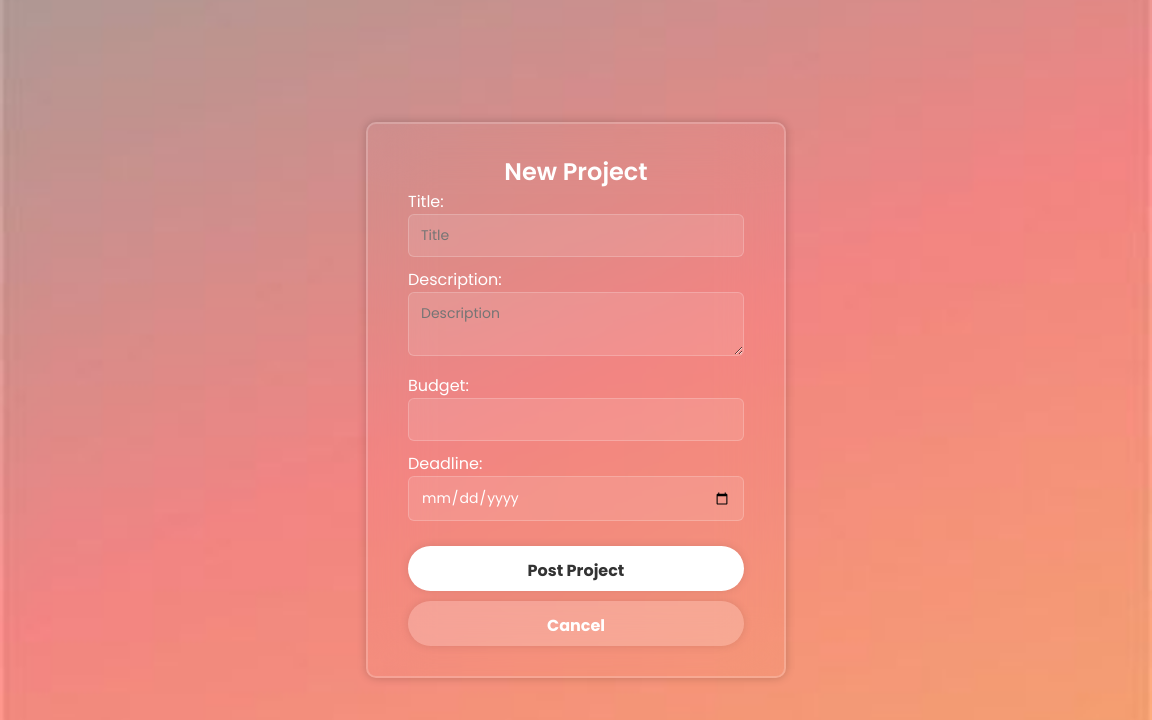
ProjectForm › should clear error message when form is resubmitted
This screenshot has width=1152, height=720.
Note: Fill and submit form
Step 1. Type "Test Project" into the field labelled "Title:" → (576, 236), box top-left (408, 214), bottom-right (744, 257)
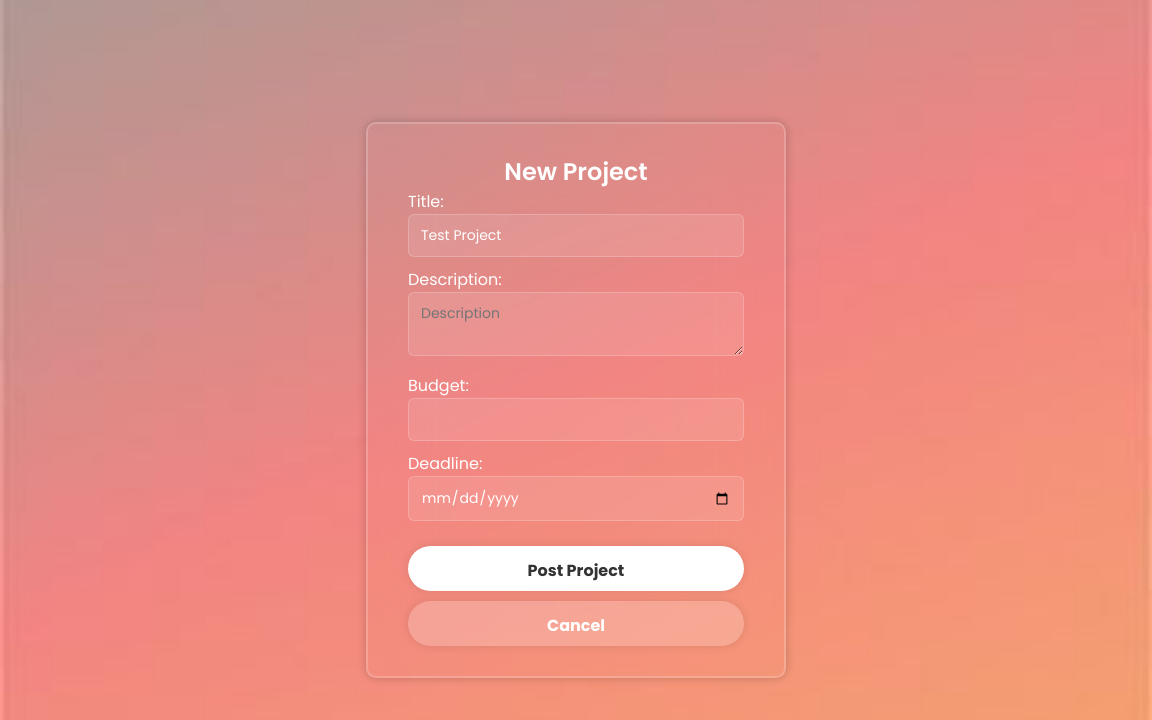
Step 2. Type "Test Description" into the text box labelled "Description:" → (576, 324), box top-left (408, 292), bottom-right (744, 356)
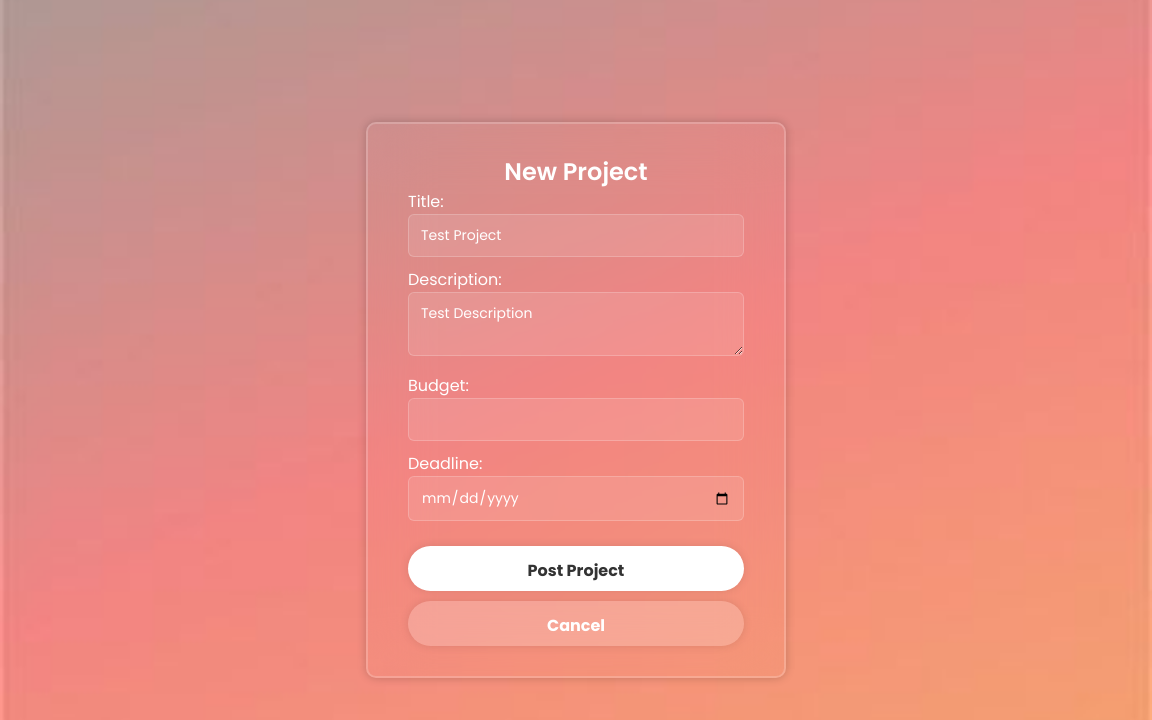
Step 3. Type "1000" into the number field labelled "Budget:" → (576, 420), box top-left (408, 398), bottom-right (744, 441)
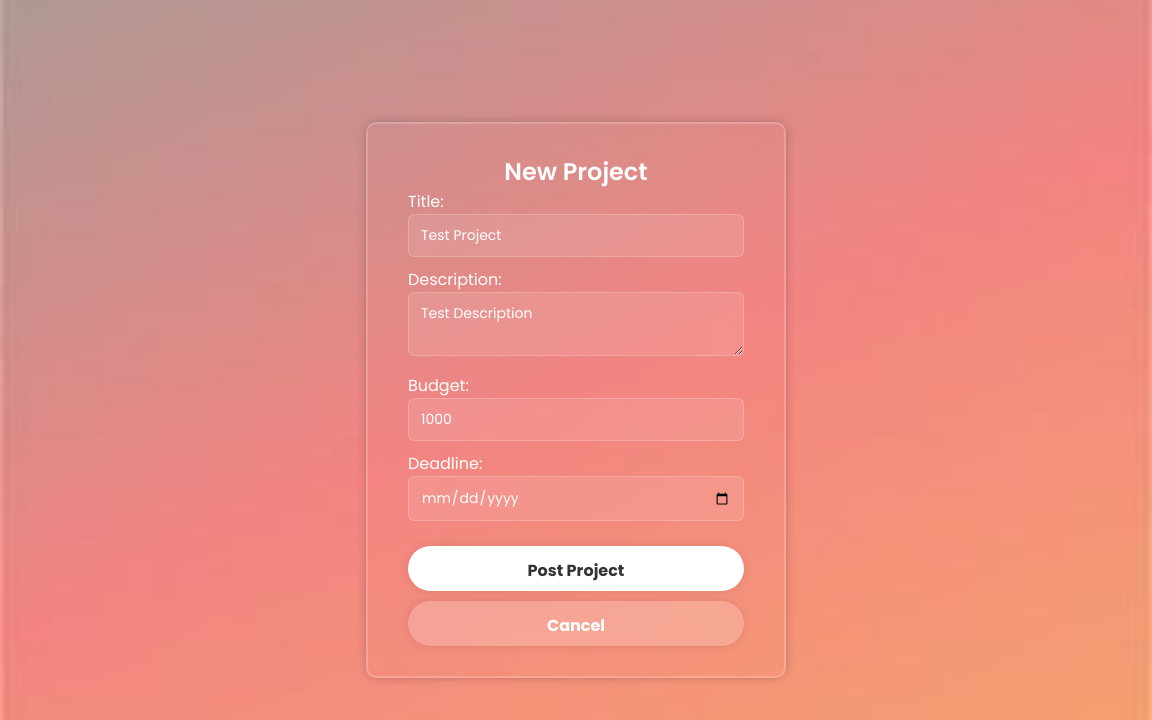
Step 4. Type "2024-12-31" into the date field labelled "Deadline:" → (576, 498), box top-left (408, 476), bottom-right (744, 521)
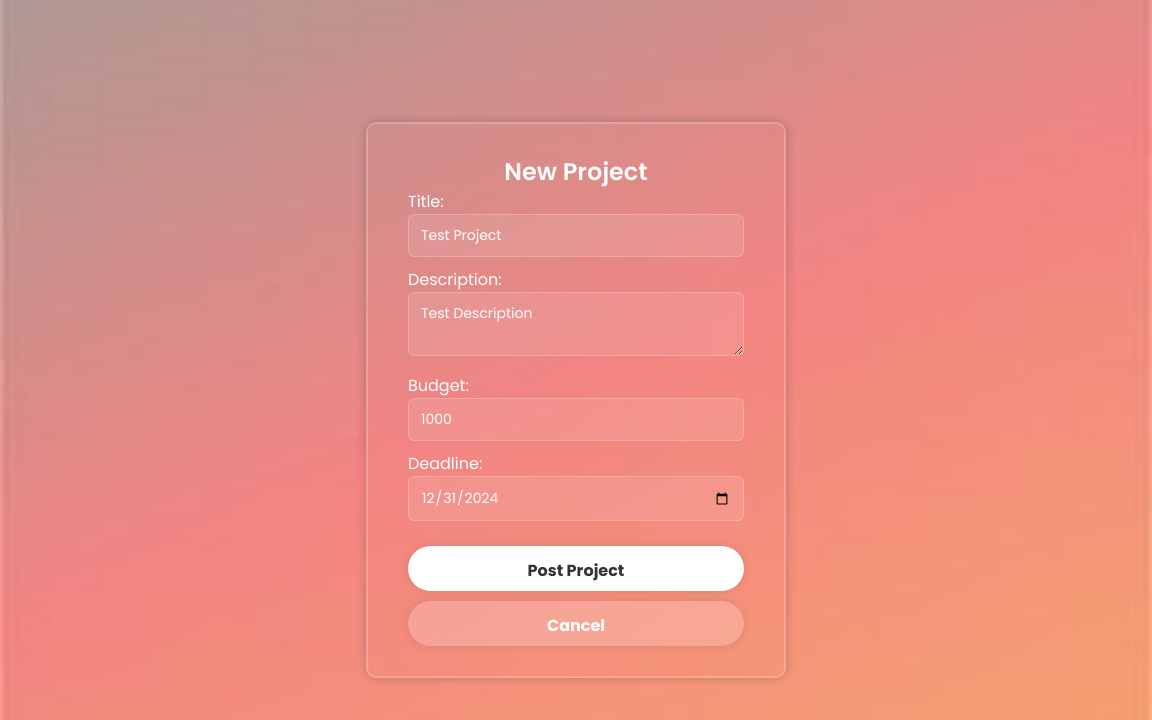
Step 5. Click the button "Post Project" → (576, 568), box top-left (408, 546), bottom-right (744, 591)
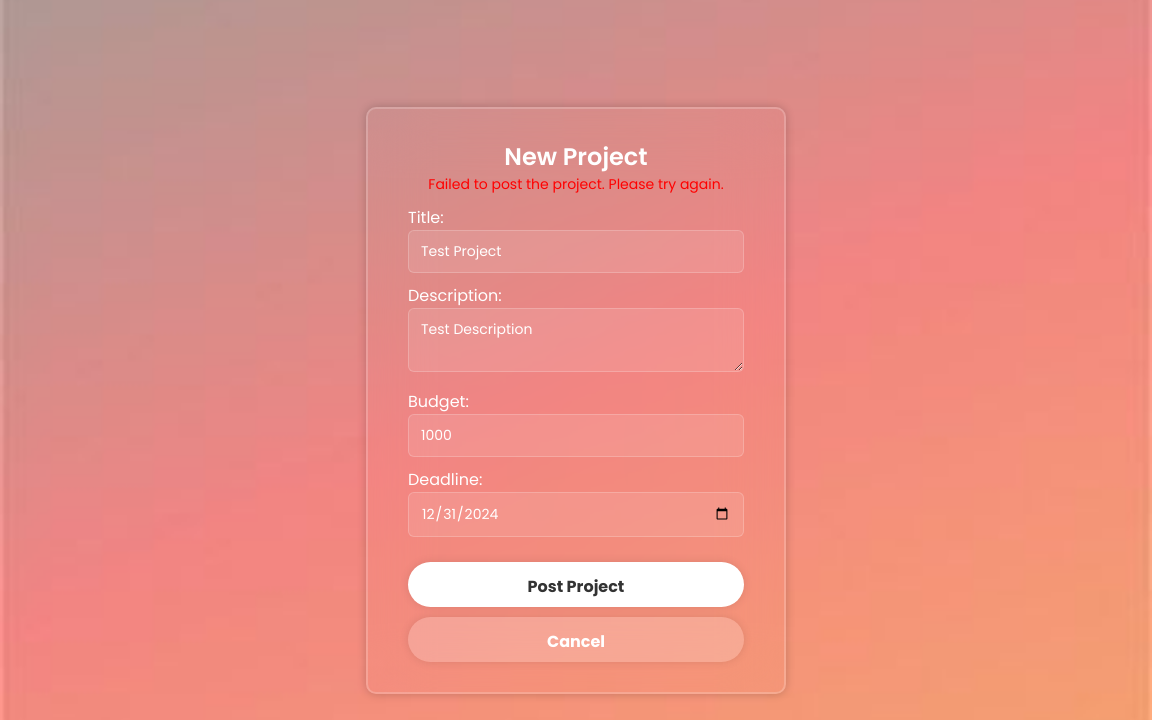
Check: the text "Failed to post the project. Please try again." is shown, box top-left (408, 174), bottom-right (744, 194)
Step 6. Click the button "Post Project" → (576, 584), box top-left (408, 562), bottom-right (744, 606)
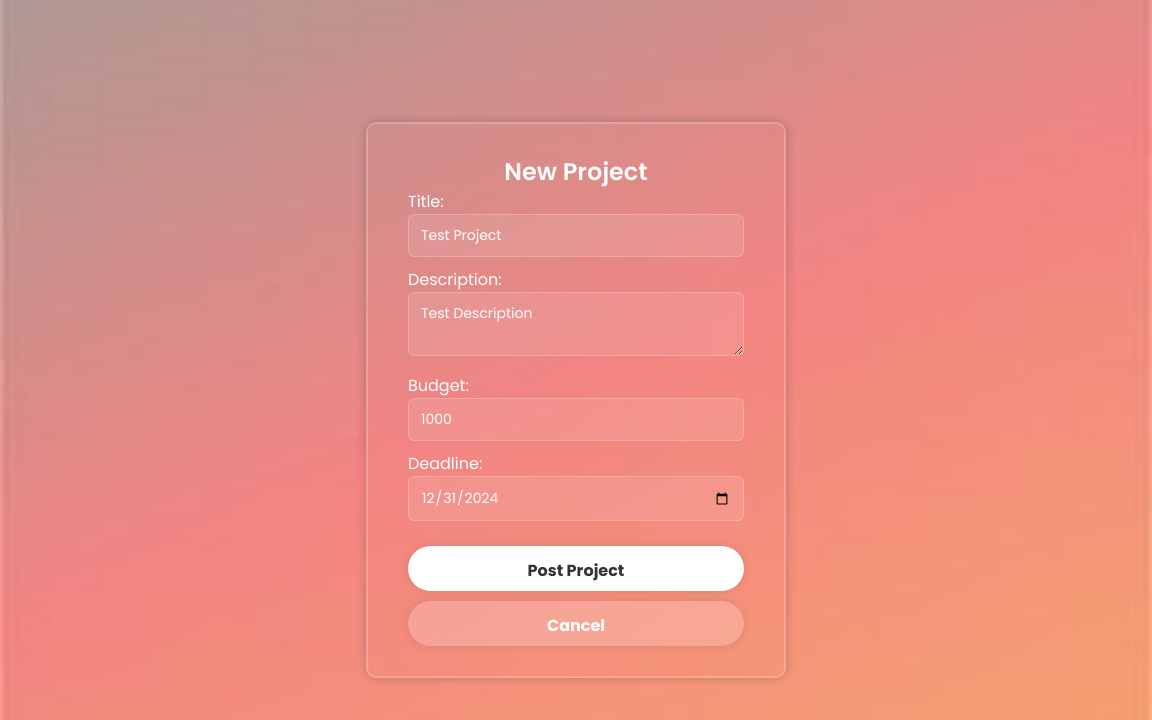
Check: the text "Failed to post the project. Please try again." is gone
